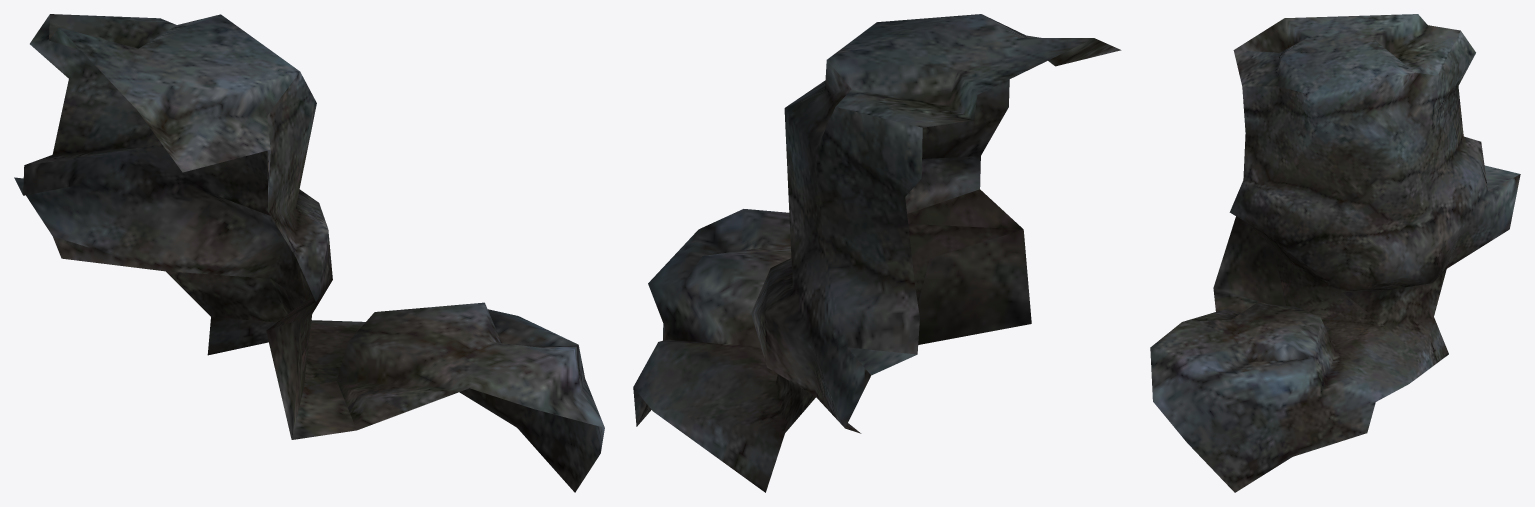
File: S_Rock_Yellow034_H07.FBX
The picture shows the model from 3 angles, left to right: view 1: azimuth 30°, elevation 25°; view 2: azimuth 150°, elevation 25°; view 3: azimuth 270°, elevation 25°; orthographic projection. The views are drawn at different scales.
Parts seen in each view (by area): view 1: S_Rock_Yellow034_H07; view 2: S_Rock_Yellow034_H07; view 3: S_Rock_Yellow034_H07.
Part boxes in pixels (left/top/right/bottom): S_Rock_Yellow034_H07: left=14, top=14, right=604, bottom=492; S_Rock_Yellow034_H07: left=633, top=14, right=1121, bottom=492; S_Rock_Yellow034_H07: left=1150, top=14, right=1520, bottom=492.
Size of the model in its own units: 861 by 941 by 955.
Materials: 1 (1 with a texture image).
